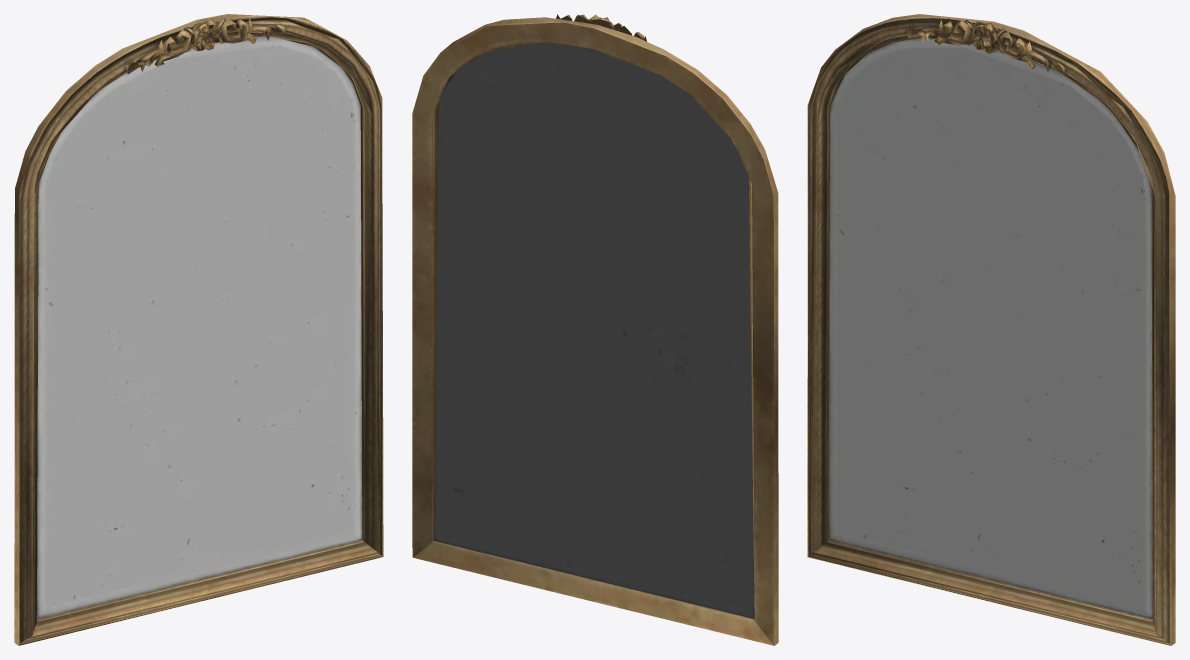
Rendered from ornate_mirror_01.glb.
The picture shows the model from 3 angles, left to right: view 1: azimuth 30°, elevation 25°; view 2: azimuth 150°, elevation 25°; view 3: azimuth 330°, elevation 25°; orthographic projection.
Visible parts, largest first — view 1: ornate_mirror_01; view 2: ornate_mirror_01; view 3: ornate_mirror_01.
Part boxes in pixels (x1,y1,x2,y2): ornate_mirror_01: (14, 14, 383, 645); ornate_mirror_01: (412, 14, 778, 645); ornate_mirror_01: (807, 14, 1175, 645).
Bounding box in the file's own units: 0.4856 × 0.7432 × 0.026.
Materials: 1 (1 with a texture image).
